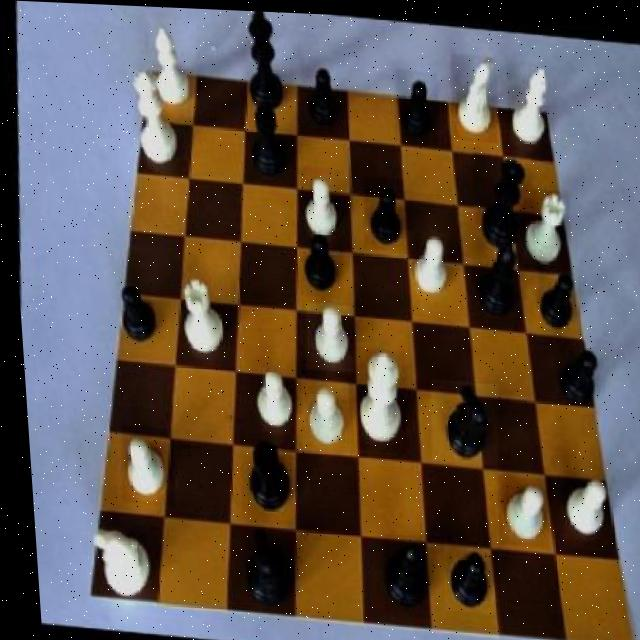bishop: (464, 229, 527, 322), (373, 530, 427, 615)
black-bishop: (236, 8, 292, 116)
black-king: (219, 523, 295, 618), (422, 377, 496, 464)
black-knight: (541, 335, 603, 411), (434, 539, 490, 613), (291, 219, 344, 297), (357, 172, 408, 251), (390, 66, 441, 144), (296, 53, 347, 129), (111, 277, 161, 353), (528, 263, 578, 325)
black-pawn: (467, 150, 535, 255)
black-queen: (230, 430, 291, 523), (234, 99, 298, 187)
black-rook: (502, 54, 561, 152), (143, 16, 201, 115)
white-bishop: (345, 344, 406, 450)
white-king: (76, 510, 154, 611), (446, 49, 501, 139)
white-knight: (112, 425, 172, 508), (552, 460, 613, 541), (293, 374, 349, 452), (490, 469, 548, 544), (243, 353, 298, 432), (402, 225, 452, 299), (300, 301, 352, 372), (294, 164, 342, 240)
white-pawn: (126, 57, 189, 169)
white-queen: (171, 268, 235, 360), (515, 184, 572, 270)
